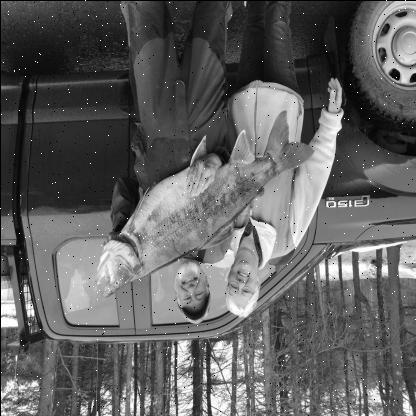fish: (93, 110, 313, 298)
